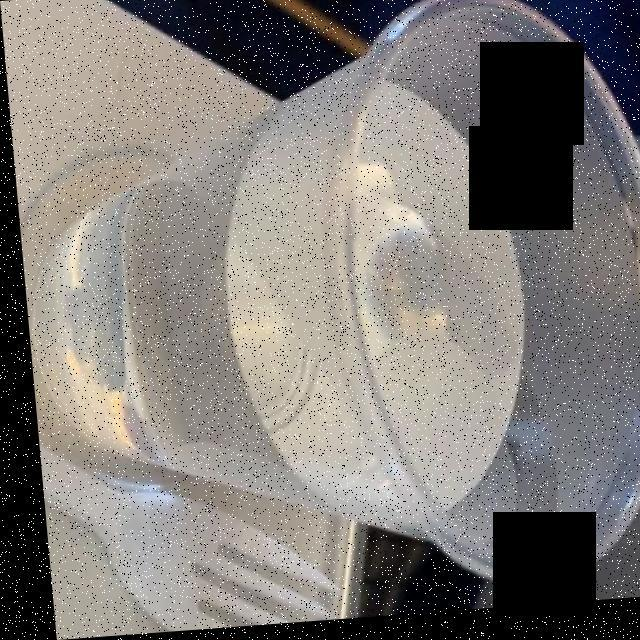water: (39, 92, 501, 520)
